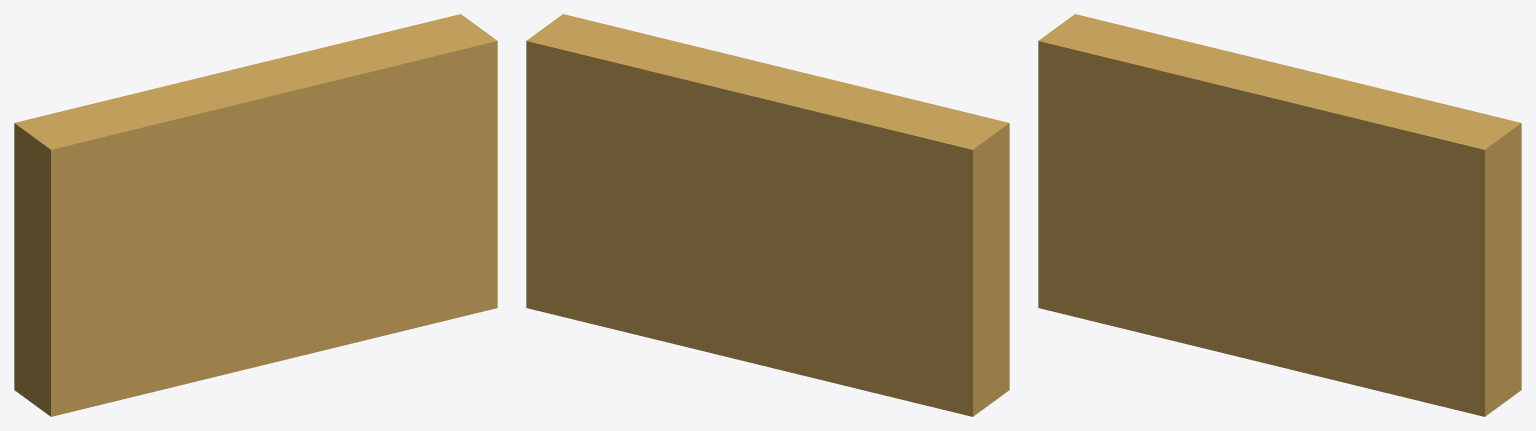
Rendered from pared1c.obj.
The picture shows the model from 3 angles, left to right: view 1: azimuth 30°, elevation 25°; view 2: azimuth 150°, elevation 25°; view 3: azimuth 330°, elevation 25°; orthographic projection.
Visible parts, largest first — view 1: Wall.063; view 2: Wall.063; view 3: Wall.063.
Part boxes in pixels (left/top/right/bottom): Wall.063: left=14, top=14, right=497, bottom=416; Wall.063: left=526, top=14, right=1009, bottom=416; Wall.063: left=1038, top=14, right=1521, bottom=416.
Size of the model in its own units: 7 by 4 by 1.
Materials: 2 (2 with a texture image).
